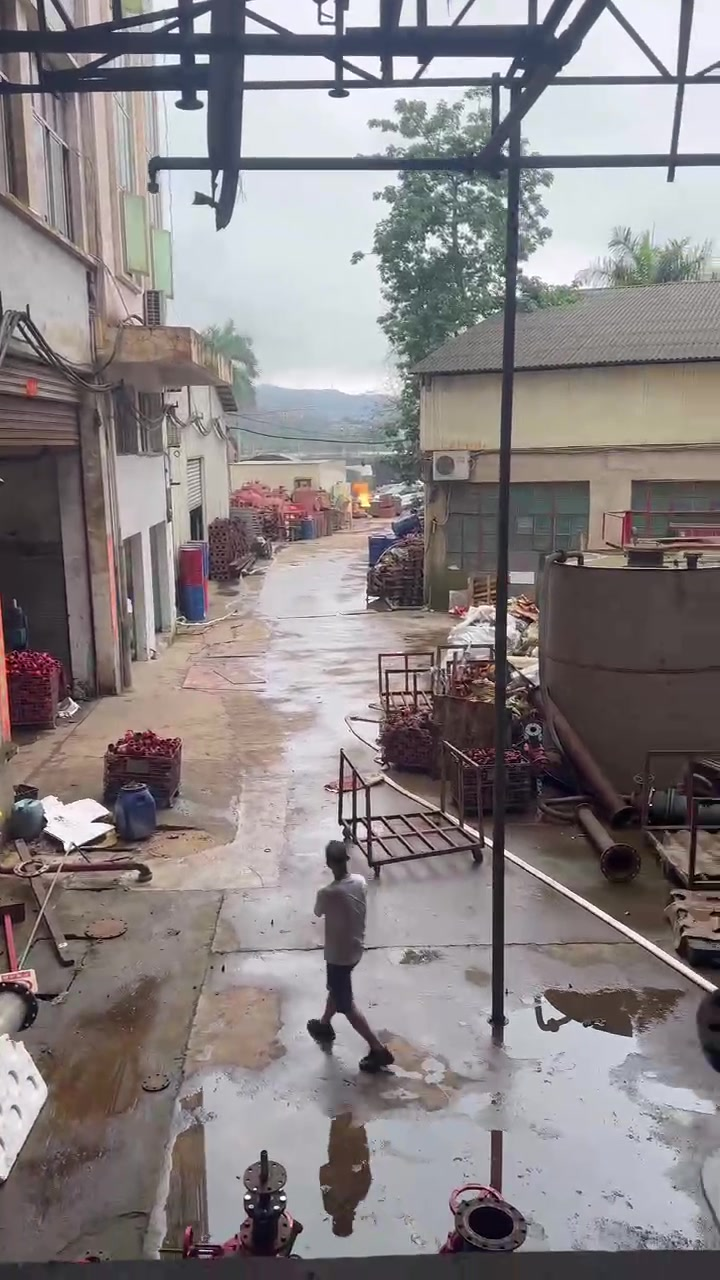fire: (352, 482, 370, 506)
